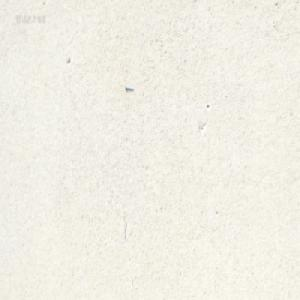Nail: (124, 84, 133, 90)
